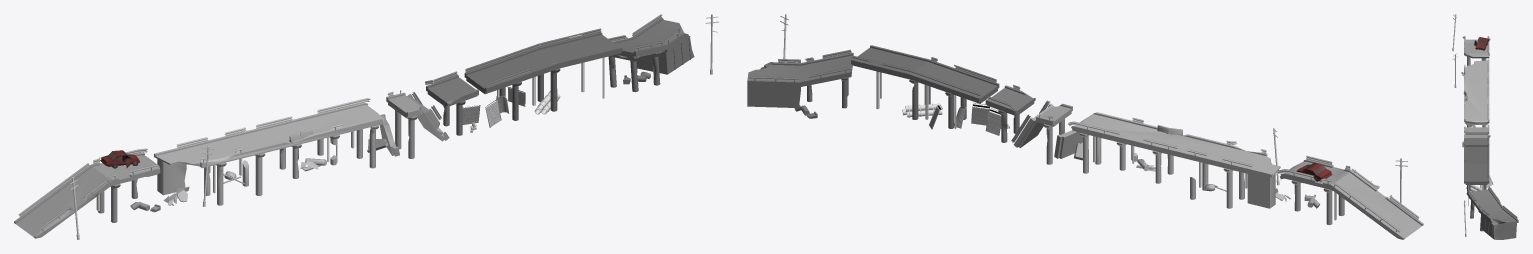
The model's file is Freeway.fbx.
3 views of the same model, side by side, from view 1: azimuth 30°, elevation 25°; view 2: azimuth 150°, elevation 25°; view 3: azimuth 270°, elevation 25° (orthographic). The views are drawn at different scales.
Visible parts, largest first — view 1: FreewaySection2, FreewaySection7, FreewaySection1, FreewaySection8, FreewaySection6, FreewaySupportBeams, FreewaySection5, FreewaySection4Top, FreewaySection4, FreewaySection3, FreewayPropsv2:car:Car; view 2: FreewaySection2, FreewaySection1, FreewaySection7, FreewaySection8, FreewaySection6, FreewaySupportBeams, FreewaySection3, FreewaySection5, FreewaySection4Top, FreewayPropsv2:car:Car, FreewayPropsv2:FencePost7, FreewaySection4; view 3: FreewaySection2, FreewaySection8, FreewaySection7, FreewaySection1, FreewaySection6, FreewaySection4Top, FreewayPropsv2:car:Car, FreewaySection5, FreewayTelephonePole1, FreewayTelephonePole3, FreewayPipes, FreewayTelephonePole2.
Boxes of the visible parts, x1=… form: FreewaySection2: x1=154, y1=98, x2=383, y2=205; FreewaySection7: x1=464, y1=28, x2=622, y2=120; FreewaySection1: x1=14, y1=148, x2=160, y2=238; FreewaySection8: x1=608, y1=14, x2=694, y2=92; FreewaySection6: x1=425, y1=71, x2=478, y2=135; FreewaySupportBeams: x1=96, y1=57, x2=604, y2=211; FreewaySection5: x1=407, y1=92, x2=449, y2=141; FreewaySection4Top: x1=386, y1=90, x2=422, y2=118; FreewaySection4: x1=395, y1=110, x2=417, y2=158; FreewaySection3: x1=367, y1=114, x2=399, y2=156; FreewayPropsv2:car:Car: x1=100, y1=150, x2=139, y2=168; FreewaySection2: x1=1068, y1=112, x2=1291, y2=208; FreewaySection1: x1=1277, y1=156, x2=1423, y2=239; FreewaySection7: x1=851, y1=45, x2=999, y2=128; FreewaySection8: x1=747, y1=49, x2=853, y2=118; FreewaySection6: x1=985, y1=84, x2=1035, y2=142; FreewaySupportBeams: x1=876, y1=71, x2=1336, y2=220; FreewaySection3: x1=1054, y1=130, x2=1082, y2=160; FreewaySection5: x1=1011, y1=100, x2=1054, y2=147; FreewaySection4Top: x1=1036, y1=103, x2=1072, y2=126; FreewayPropsv2:car:Car: x1=1296, y1=162, x2=1332, y2=181; FreewayPropsv2:FencePost7: x1=971, y1=102, x2=989, y2=125; FreewaySection4: x1=1043, y1=119, x2=1064, y2=164; FreewaySection2: x1=1462, y1=59, x2=1489, y2=127; FreewaySection8: x1=1466, y1=186, x2=1518, y2=239; FreewaySection7: x1=1464, y1=143, x2=1489, y2=191; FreewaySection1: x1=1461, y1=36, x2=1490, y2=74; FreewaySection6: x1=1464, y1=135, x2=1490, y2=146; FreewaySection4Top: x1=1464, y1=124, x2=1489, y2=134; FreewayPropsv2:car:Car: x1=1474, y1=37, x2=1488, y2=50; FreewaySection5: x1=1464, y1=133, x2=1489, y2=138; FreewayTelephonePole1: x1=1452, y1=14, x2=1456, y2=51; FreewayTelephonePole3: x1=1463, y1=200, x2=1466, y2=236; FreewayPipes: x1=1466, y1=185, x2=1481, y2=191; FreewayTelephonePole2: x1=1452, y1=53, x2=1457, y2=87.
Bounding box in the file's own units: 58.29 × 6.12 × 8.3.
Materials: 11 (7 with a texture image).
